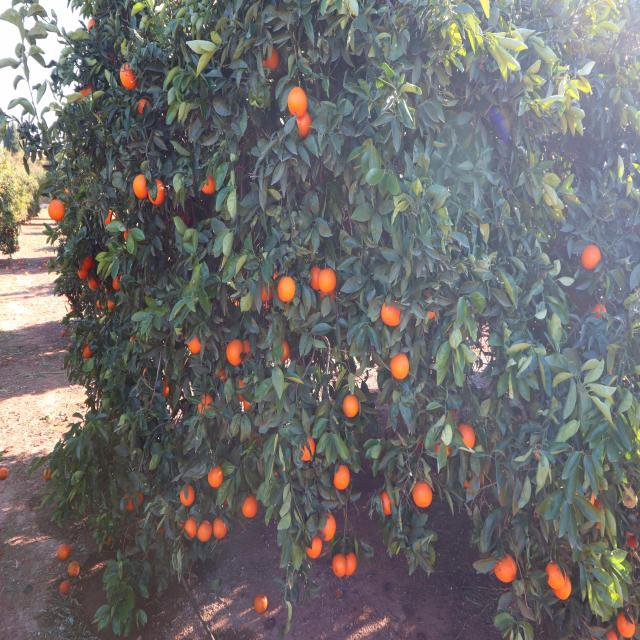Jeruk Sudah Matang: (410, 478, 439, 514), (493, 552, 519, 586), (259, 40, 283, 76), (544, 556, 568, 590), (286, 84, 308, 116), (330, 462, 352, 494), (382, 302, 406, 331), (581, 240, 604, 270), (458, 424, 478, 458), (391, 350, 412, 382), (182, 329, 206, 357), (342, 389, 360, 424), (121, 489, 144, 516), (276, 275, 298, 303), (318, 266, 340, 294), (617, 612, 638, 640), (321, 510, 338, 544), (198, 173, 221, 198), (554, 578, 576, 604), (328, 553, 349, 580), (116, 62, 136, 90), (381, 490, 398, 522), (296, 110, 316, 137), (148, 180, 168, 207), (297, 436, 315, 466), (225, 339, 243, 367), (46, 198, 68, 220), (590, 302, 612, 324), (306, 535, 322, 565), (130, 176, 148, 202), (242, 496, 259, 522), (196, 522, 216, 544), (198, 394, 218, 416), (136, 99, 155, 122), (208, 464, 224, 490), (182, 516, 198, 542), (343, 552, 359, 577), (211, 516, 229, 538), (180, 484, 198, 506), (278, 341, 294, 364), (260, 283, 273, 310), (423, 306, 442, 320), (111, 274, 122, 296), (86, 275, 100, 292), (80, 254, 94, 270), (76, 266, 90, 281), (82, 345, 95, 361), (106, 300, 117, 310)
